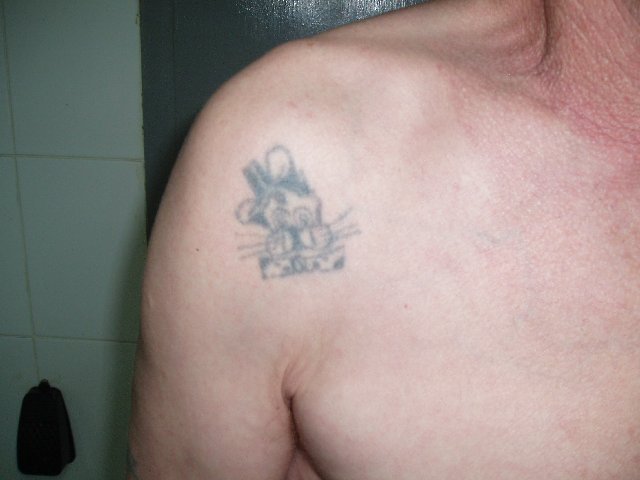tatu8_kot: (231, 139, 359, 280)
